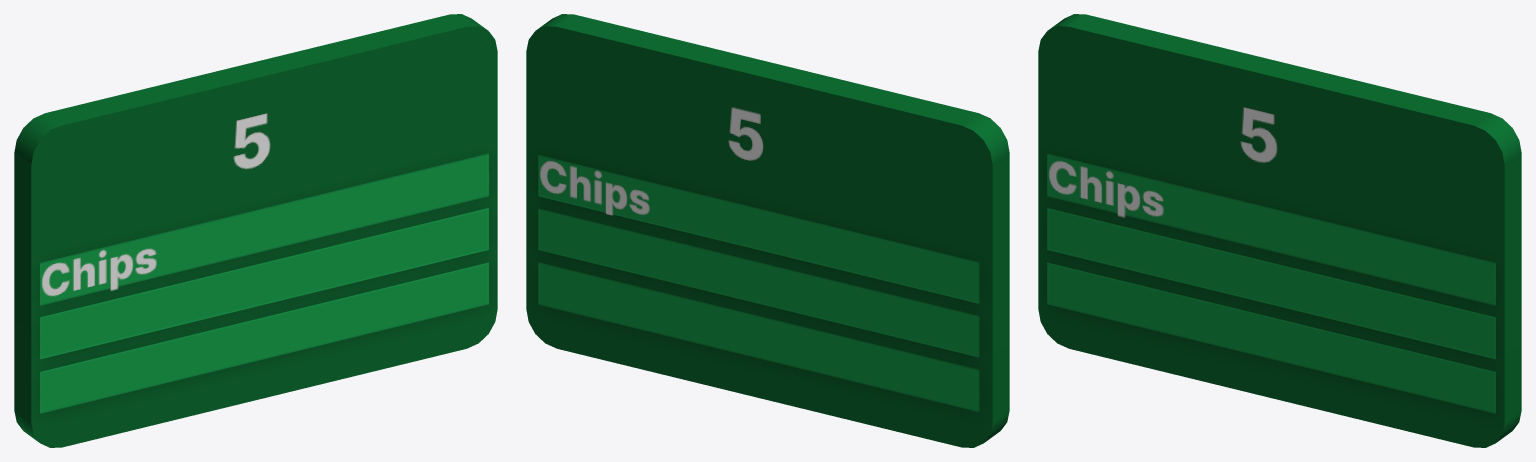
The model's file is aisle5.fbx.
3 views of the same model, side by side, from view 1: azimuth 30°, elevation 25°; view 2: azimuth 150°, elevation 25°; view 3: azimuth 330°, elevation 25° (orthographic).
Visible parts, largest first — view 1: pCube1; view 2: pCube1; view 3: pCube1.
Part boxes in pixels (x1=…): pCube1: x1=14, y1=14, x2=497, y2=447; pCube1: x1=526, y1=14, x2=1009, y2=447; pCube1: x1=1038, y1=14, x2=1521, y2=447.
Bounding box in the file's own units: 15.9 × 10.49 × 1.
